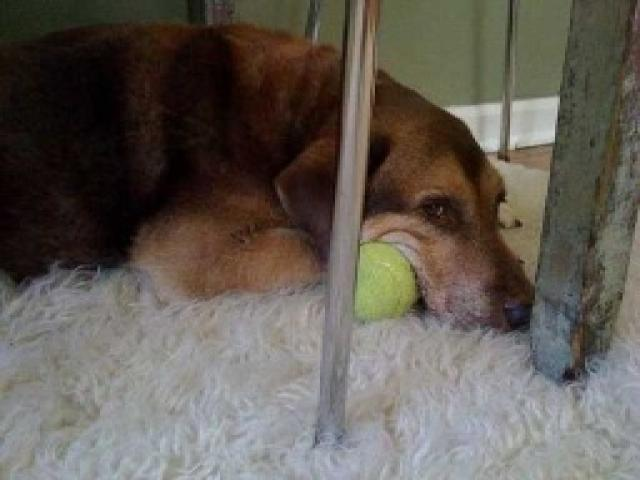tennis-ball: (354, 242, 416, 322)
